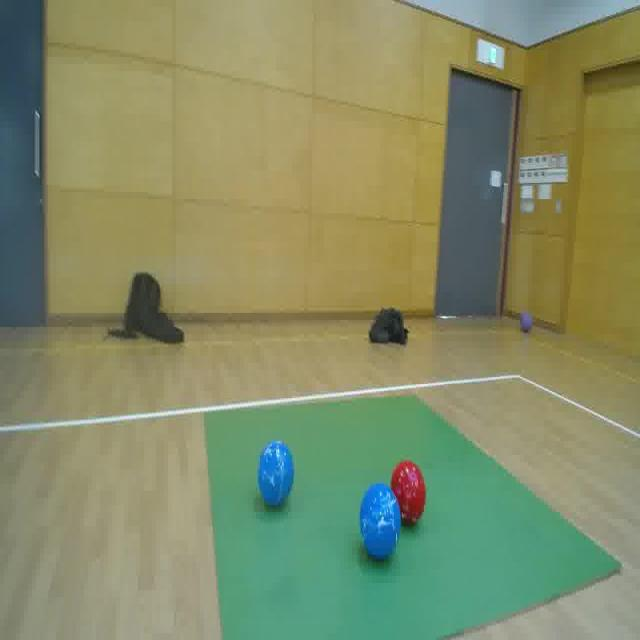blue_ball: (360, 479, 401, 562), (254, 438, 295, 512)
purple_ball: (518, 312, 532, 336)
red_ball: (389, 458, 429, 530)
